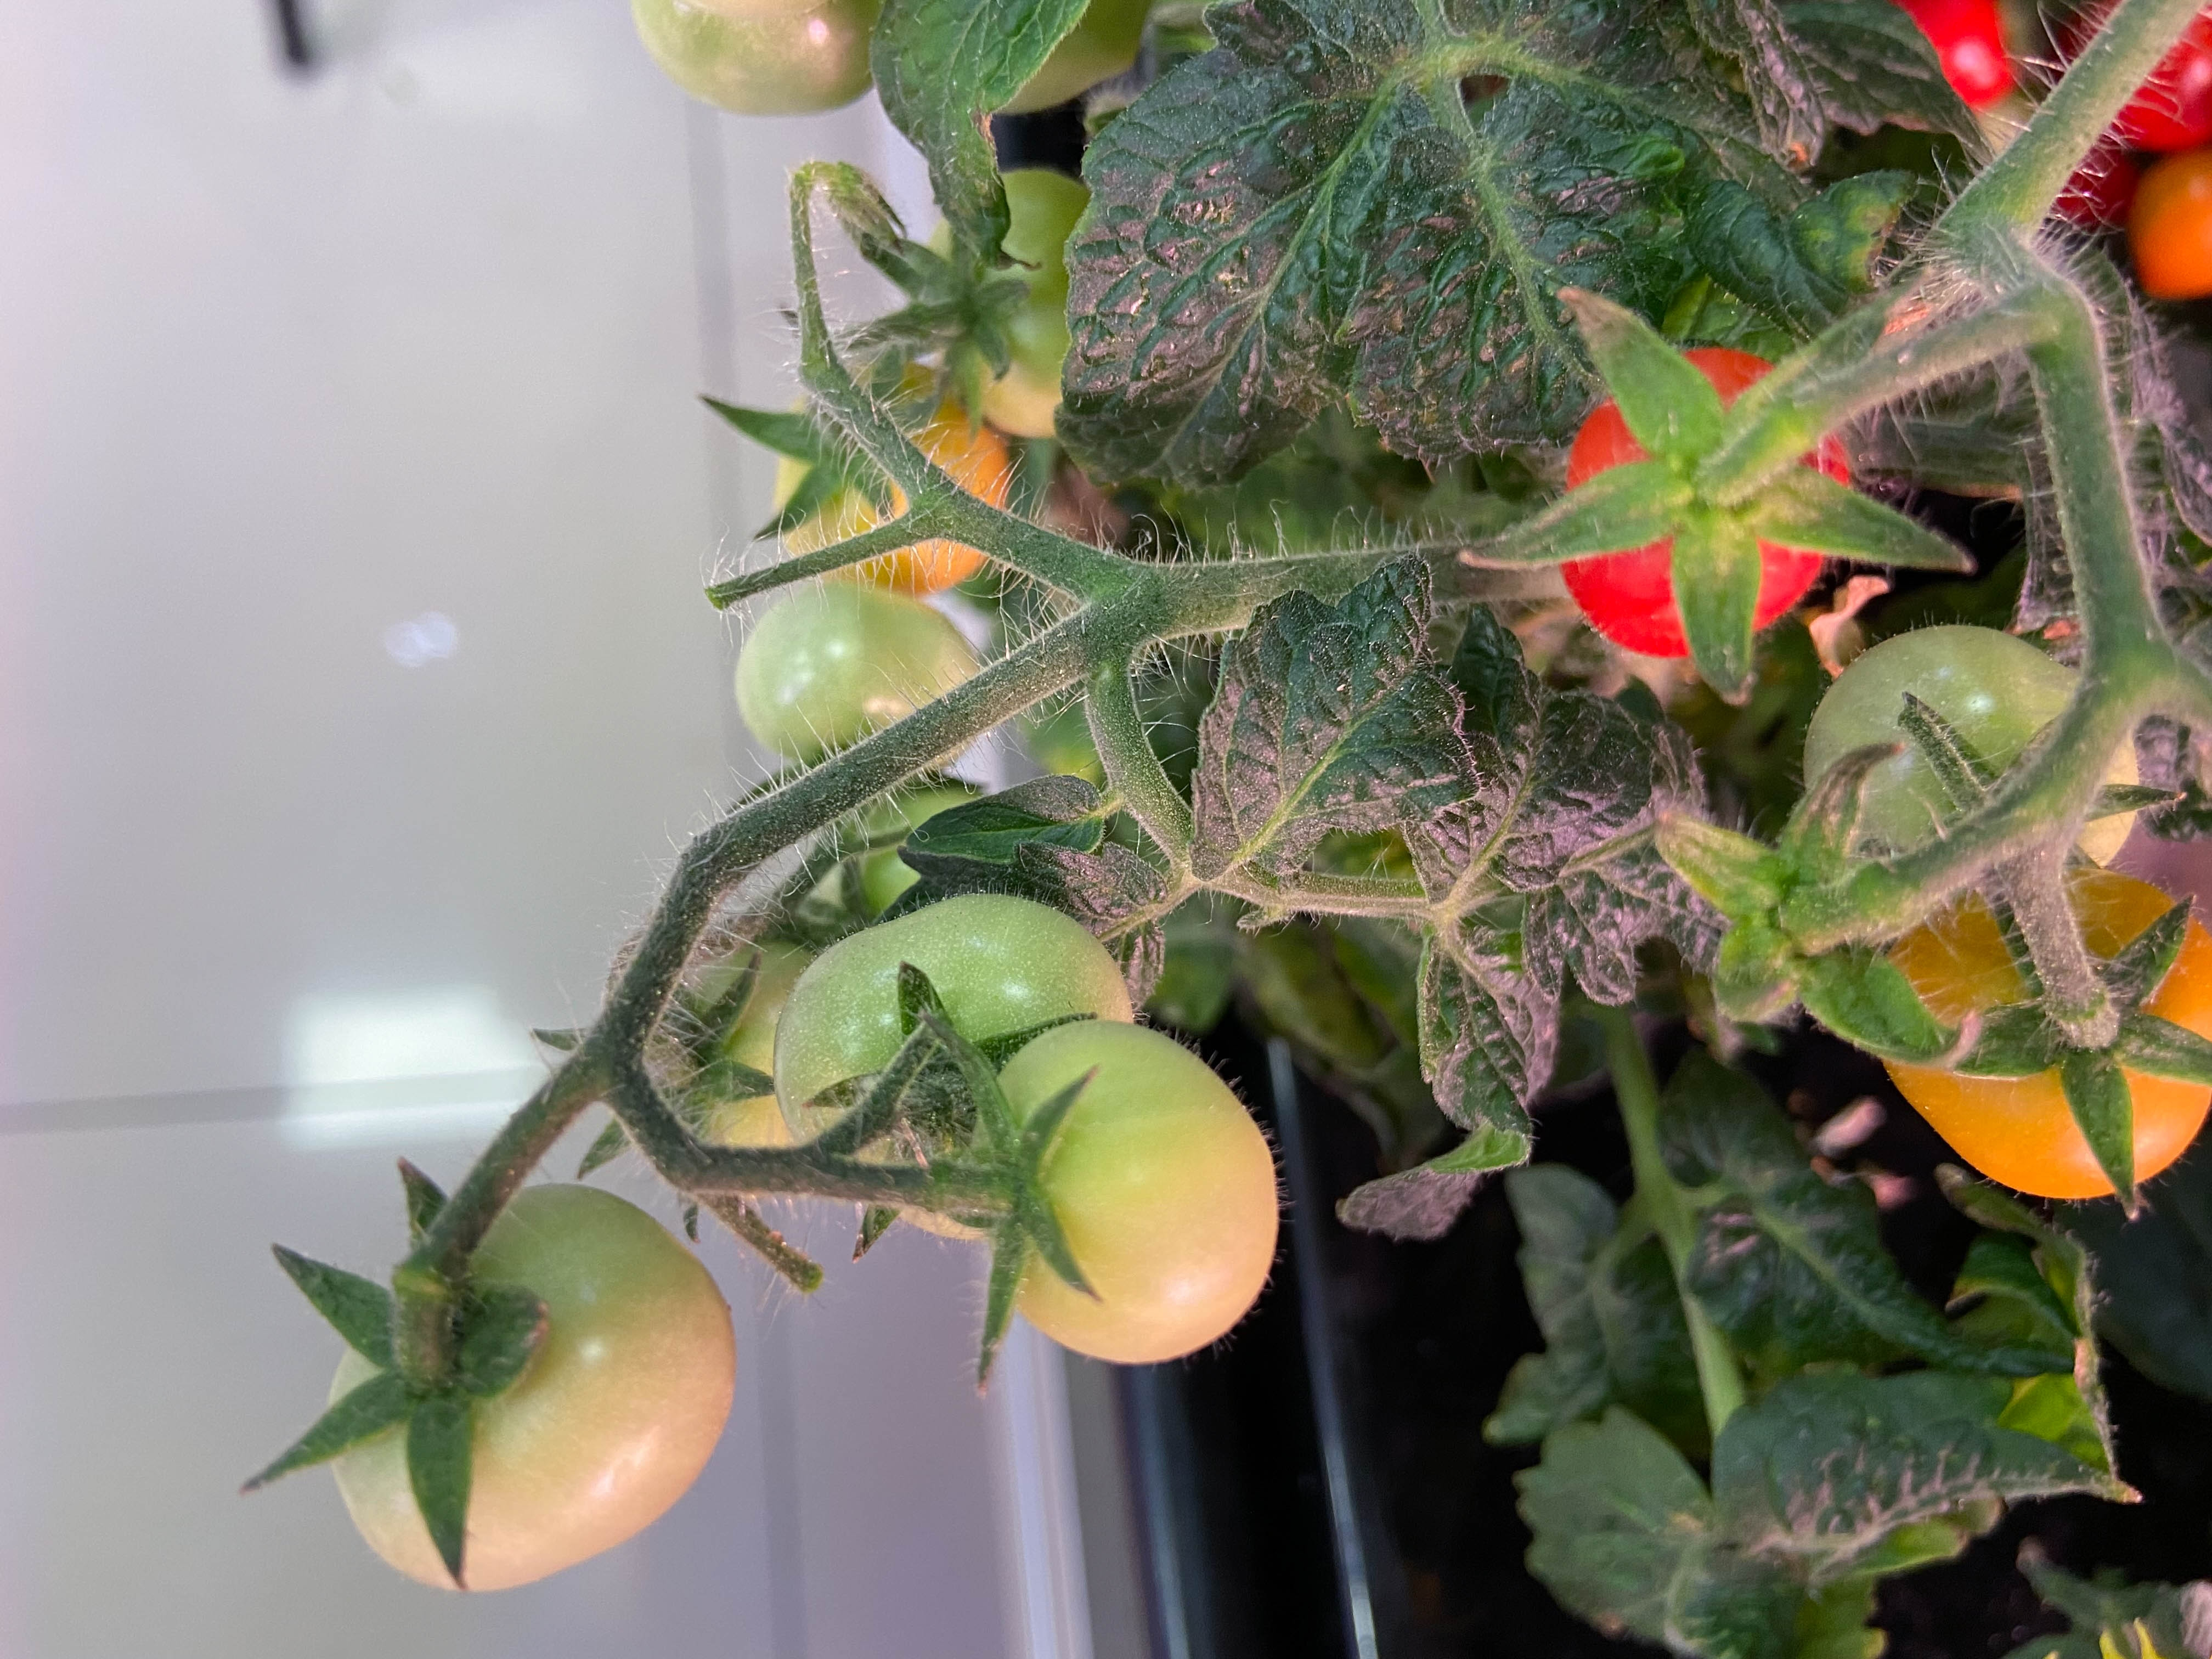green: (314, 1166, 742, 1588), (1792, 620, 2146, 946), (972, 1021, 1282, 1371), (768, 882, 1129, 1180), (921, 164, 1144, 436), (580, 936, 836, 1168), (732, 566, 993, 770), (850, 767, 1129, 927), (895, 0, 1184, 119), (622, 0, 911, 119)
red: (1876, 859, 2212, 1204), (1555, 349, 1834, 659), (768, 387, 1019, 592), (2078, 7, 2209, 146), (1904, 0, 2024, 112), (2128, 145, 2212, 301)
